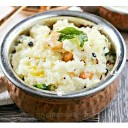venpongal: (17, 27, 107, 85)
